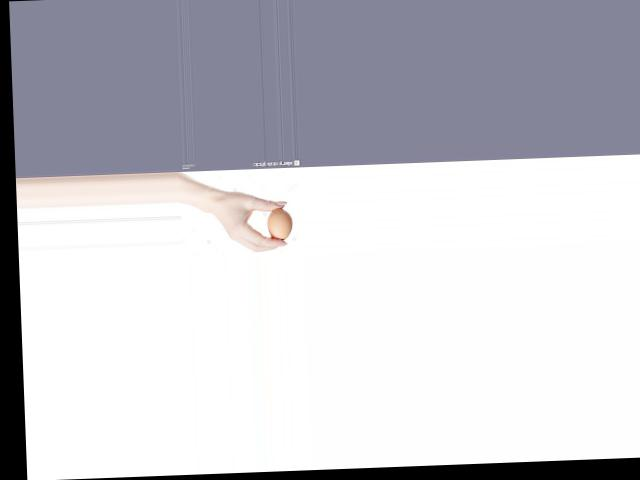egg: (265, 207, 292, 240)
